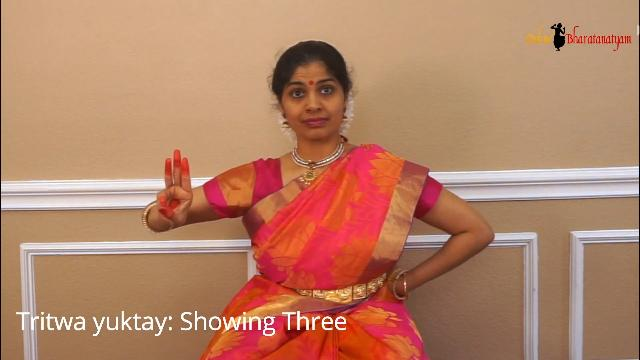trishool: (135, 140, 203, 244)
